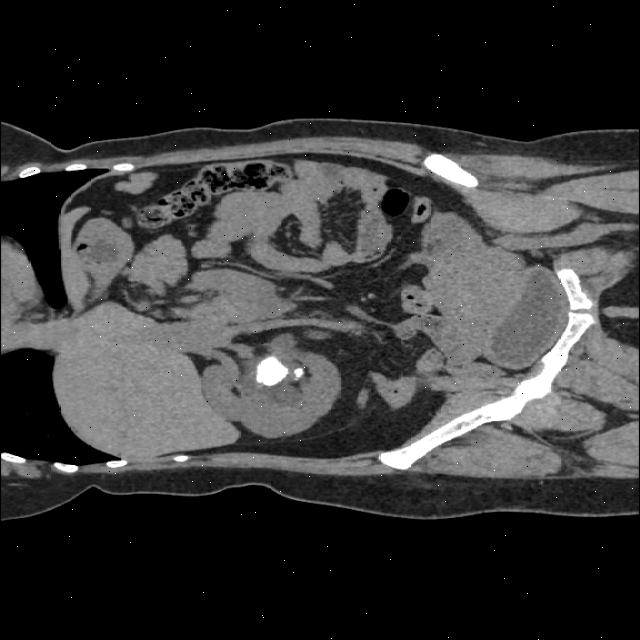kidneystone: (257, 356, 287, 385), (294, 366, 304, 378)
